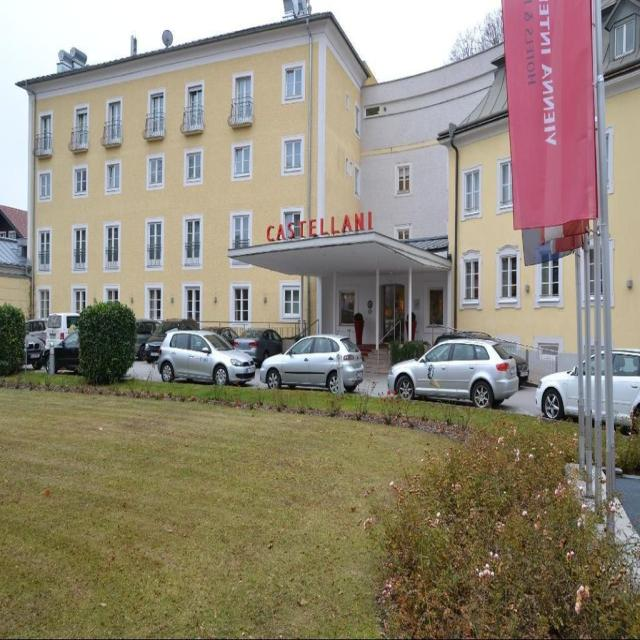car: (384, 339, 519, 411), (158, 324, 256, 387), (260, 330, 363, 388)
